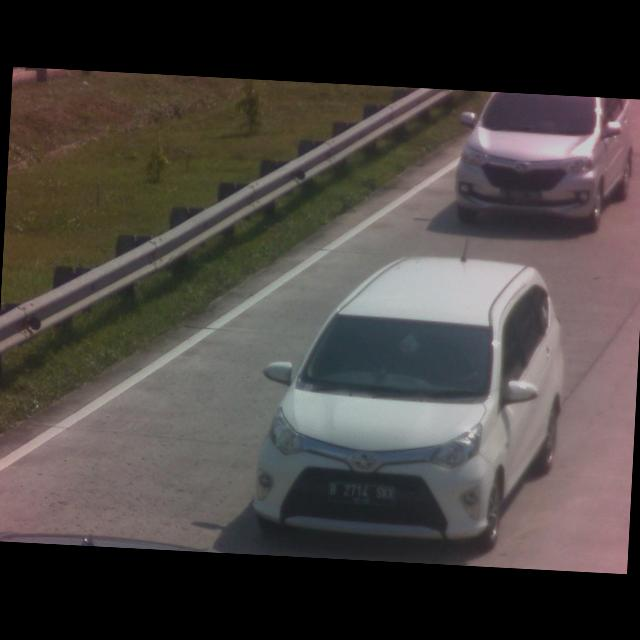plate: (324, 480, 398, 508)
